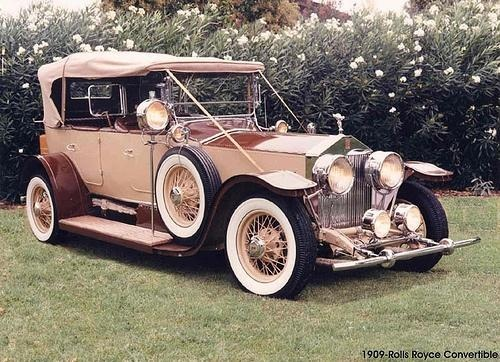car: (27, 47, 483, 300)
